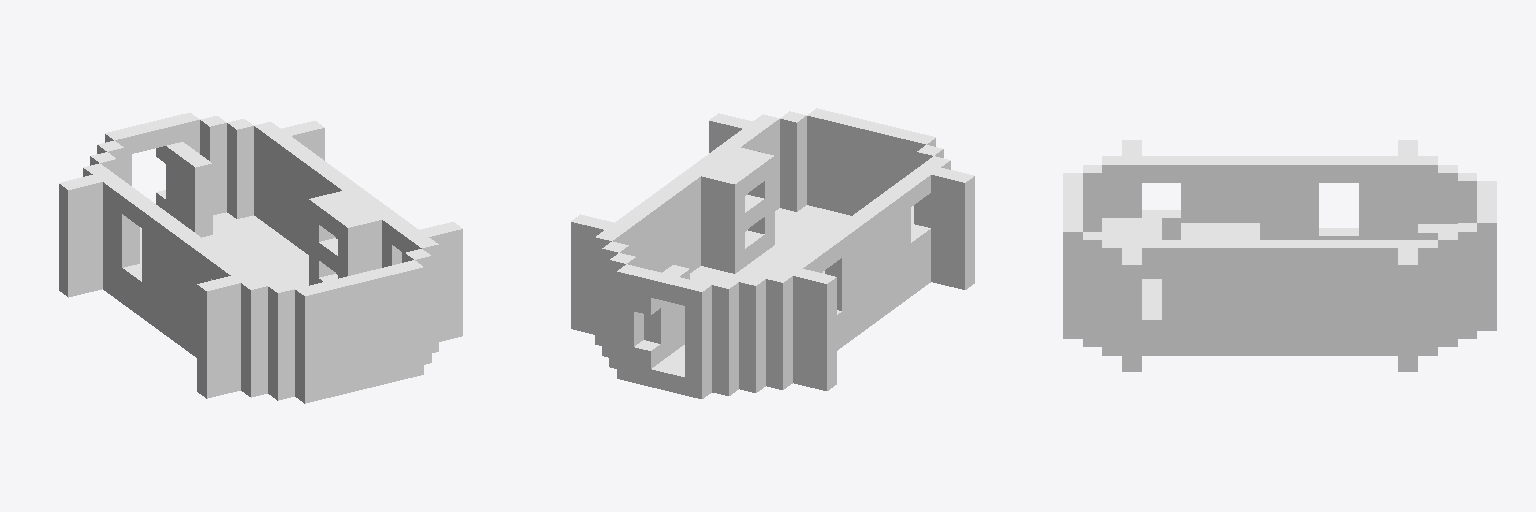
Rendered from murs_maison_campagne_pauvre_1.obj.
3 renders of one model, left to right at view 1: azimuth 30°, elevation 25°; view 2: azimuth 150°, elevation 25°; view 3: azimuth 270°, elevation 25°, orthographic.
Visible parts, largest first — view 1: murs_maison_campagne_pauvre_1; view 2: murs_maison_campagne_pauvre_1; view 3: murs_maison_campagne_pauvre_1.
Part boxes in pixels (x1,y1,x2,y2): murs_maison_campagne_pauvre_1: (59,113,462,403); murs_maison_campagne_pauvre_1: (571,108,974,398); murs_maison_campagne_pauvre_1: (1063,140,1496,371).
Bounding box in the file's own units: 15 × 6 × 22.